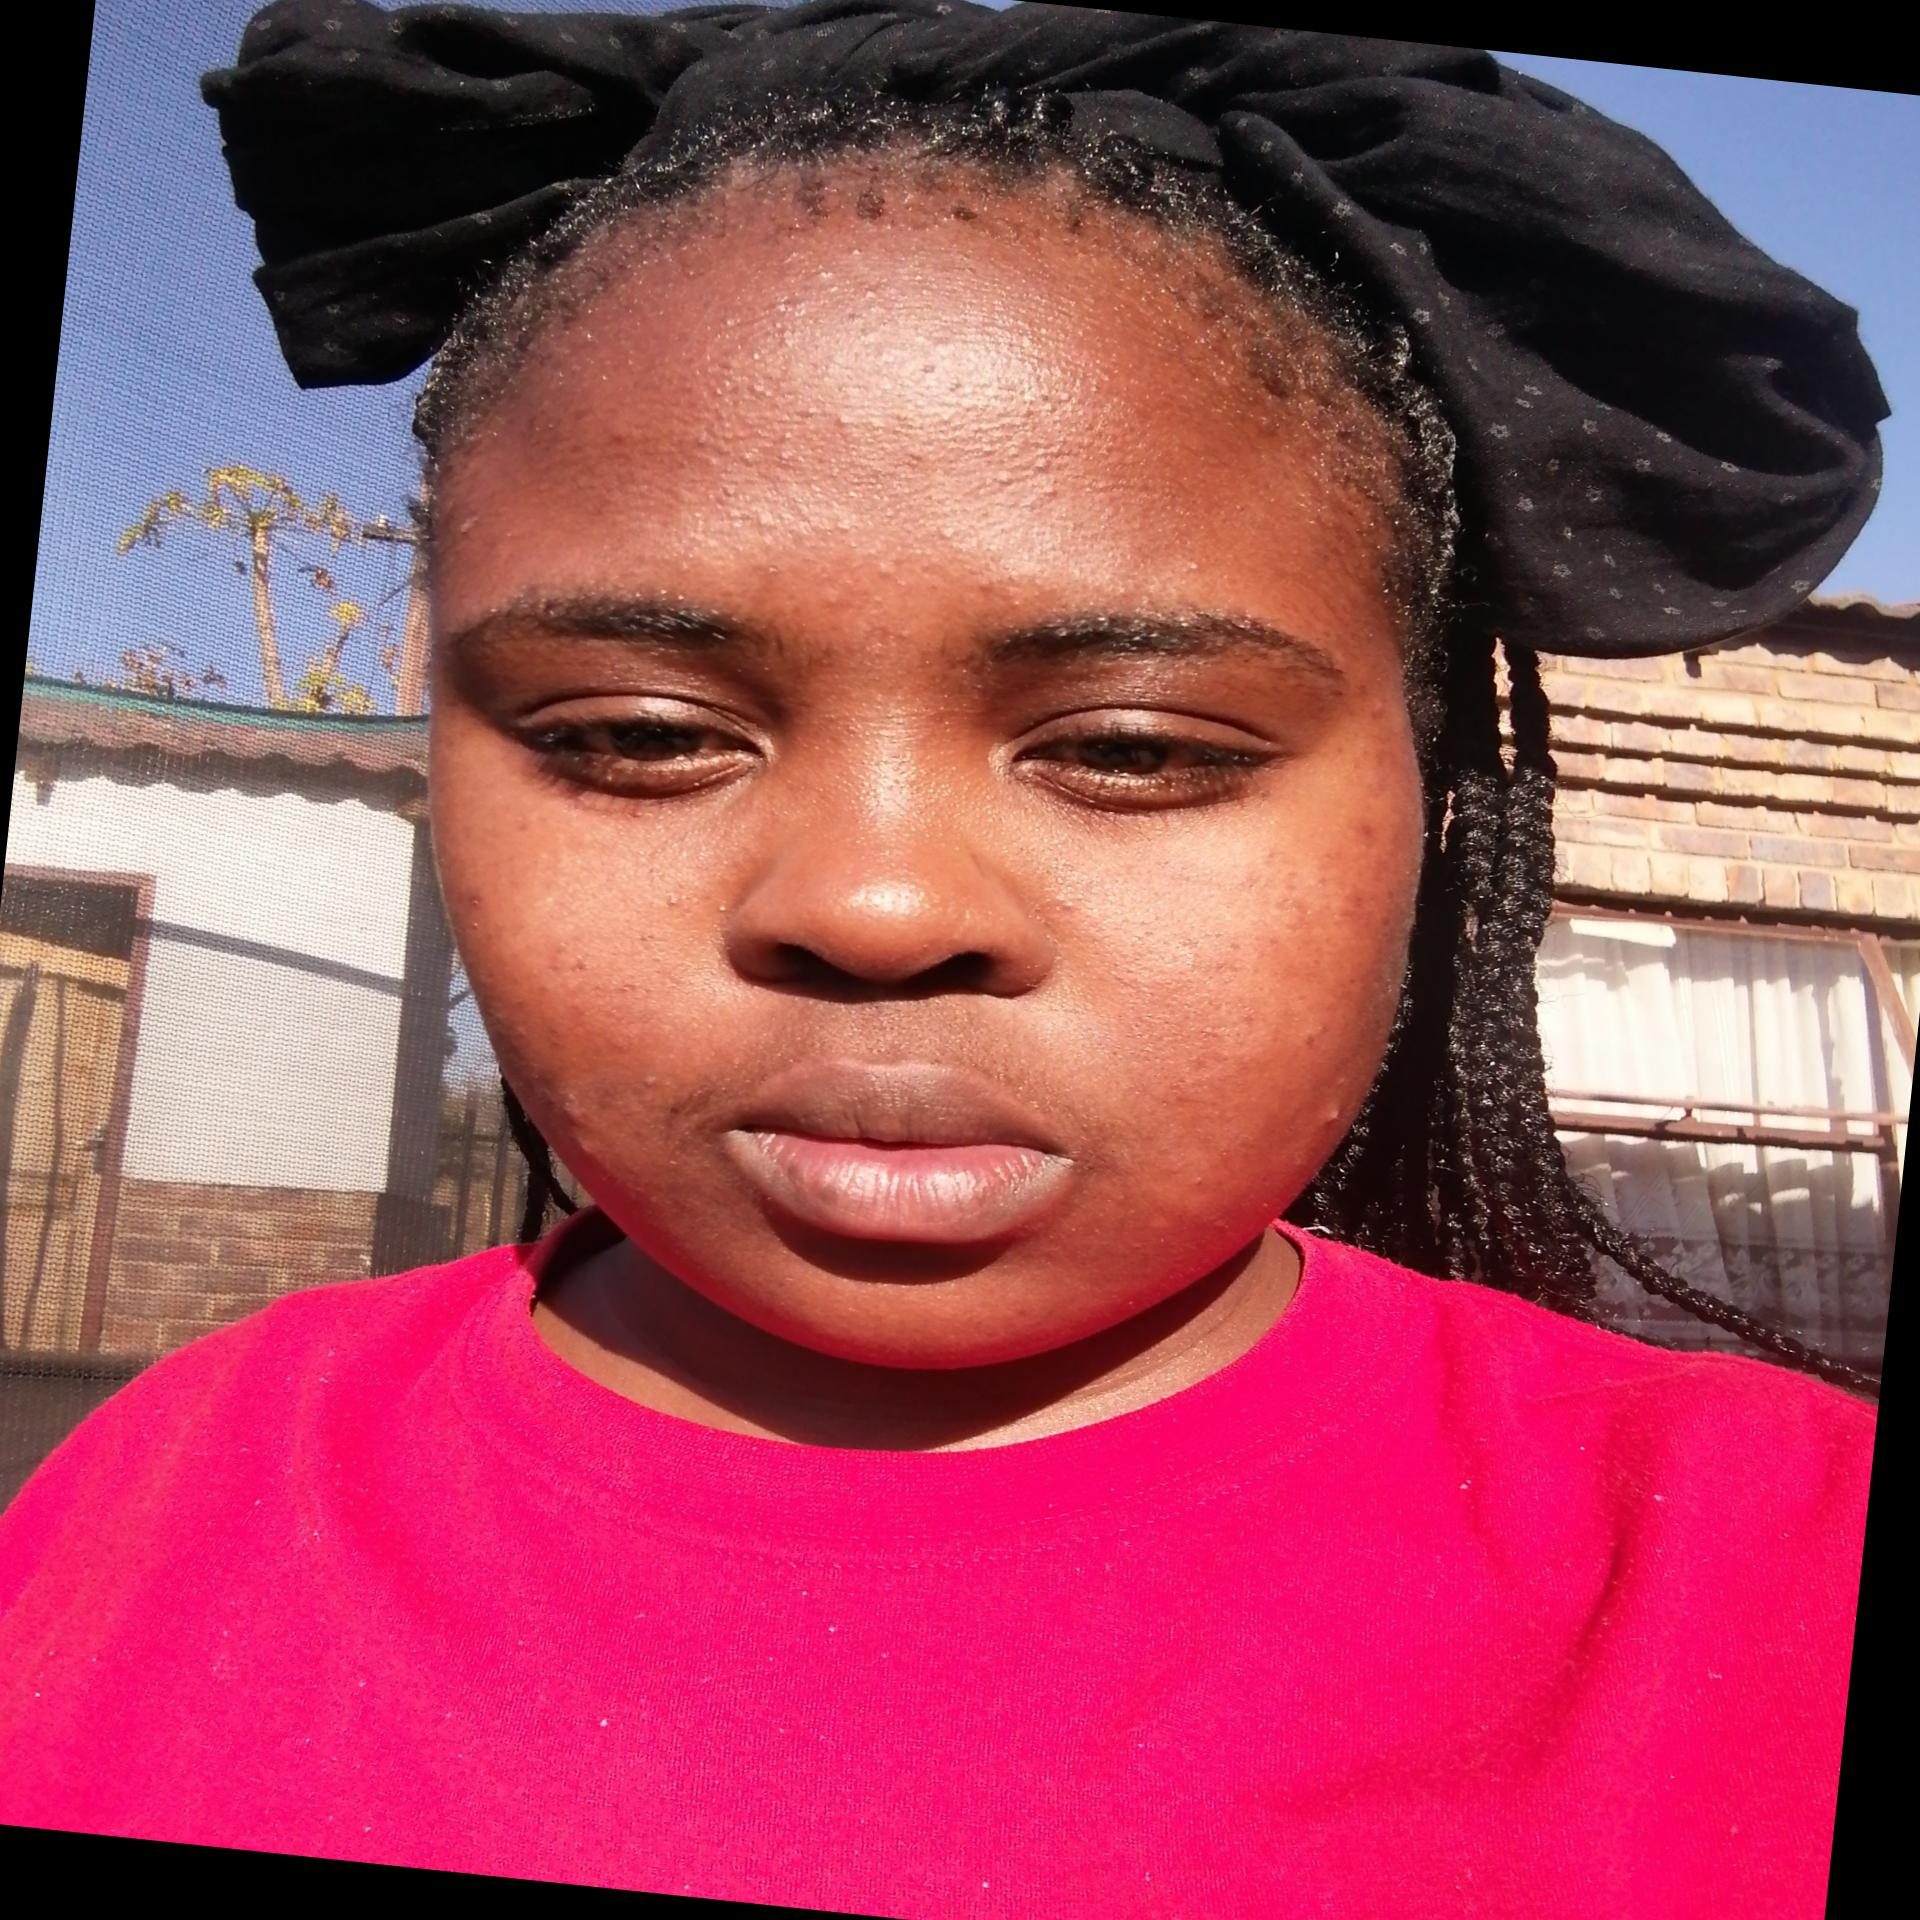Acne: (1016, 385, 1073, 418), (1291, 1016, 1333, 1053), (550, 1088, 591, 1125), (730, 375, 782, 403), (543, 951, 594, 978), (1340, 881, 1370, 925), (897, 397, 928, 434), (568, 1134, 603, 1166), (454, 510, 482, 542), (969, 573, 1002, 600), (772, 325, 805, 350), (596, 422, 631, 445), (904, 447, 934, 473), (1320, 1104, 1347, 1134), (828, 513, 862, 536), (819, 587, 847, 614), (1023, 452, 1057, 473), (939, 373, 967, 397), (714, 482, 742, 506), (930, 522, 960, 545), (1036, 484, 1069, 503), (872, 559, 900, 582), (760, 559, 791, 578), (768, 295, 800, 315), (745, 510, 777, 529), (615, 976, 644, 997), (638, 1073, 663, 1095), (601, 1037, 636, 1053), (988, 471, 1016, 491), (1176, 557, 1204, 577), (1354, 819, 1377, 842), (844, 308, 869, 327), (832, 411, 860, 427), (738, 447, 758, 469), (1329, 1069, 1352, 1088), (909, 329, 934, 346), (916, 362, 942, 378), (795, 403, 821, 418), (770, 448, 796, 464), (717, 315, 738, 334), (661, 891, 686, 907), (464, 891, 482, 913), (844, 243, 869, 257), (807, 267, 835, 280), (976, 441, 1002, 454), (517, 1023, 531, 1044), (464, 918, 482, 932), (862, 287, 876, 301)
Englarged Pores: (1036, 862, 1240, 1074), (668, 942, 758, 1016)
